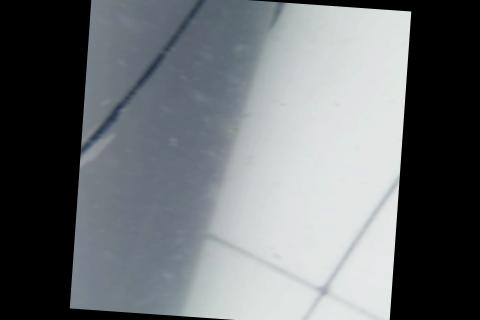keretakan: (78, 0, 213, 190)
